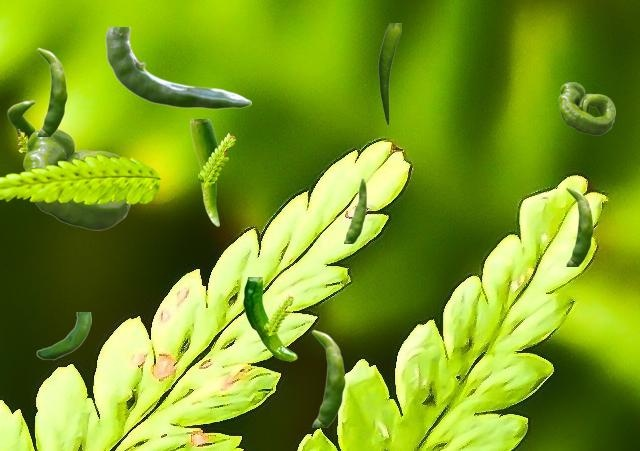green_chili: (105, 27, 250, 108), (23, 129, 131, 229), (243, 277, 296, 360), (311, 329, 345, 426), (190, 119, 218, 225), (558, 82, 614, 134), (36, 47, 67, 135), (36, 312, 90, 359), (378, 23, 400, 124), (565, 186, 593, 265), (344, 177, 366, 242), (7, 100, 36, 136)
